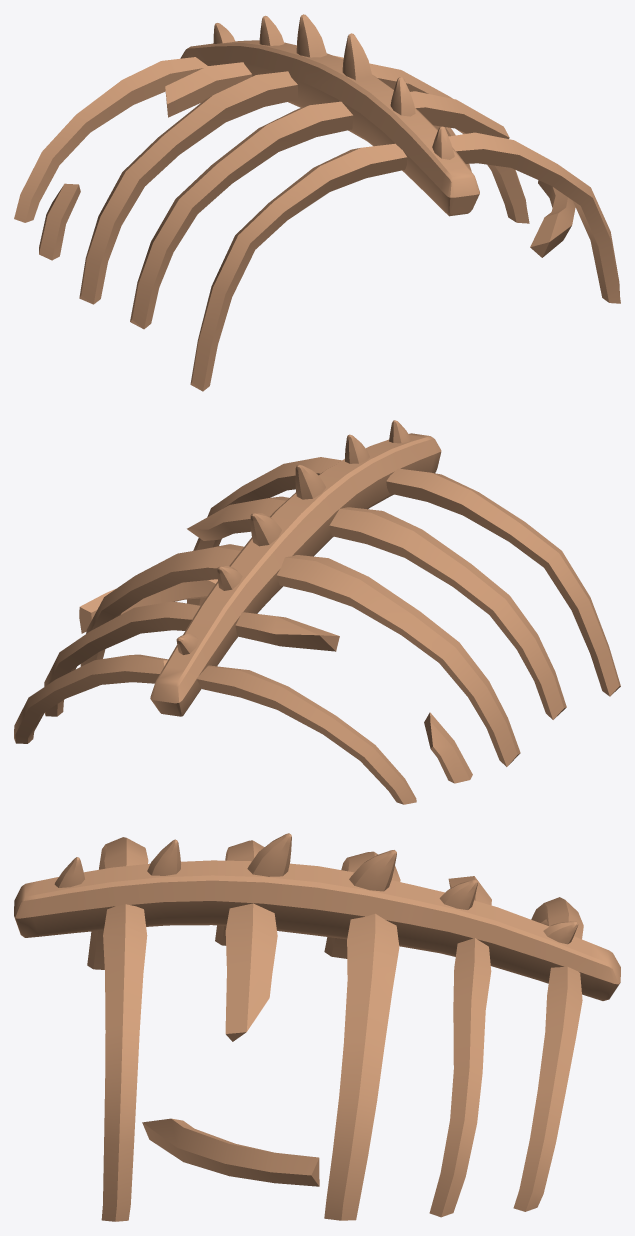
File: large_bone.glb
3 views of the same model, one above another, from view 1: azimuth 30°, elevation 25°; view 2: azimuth 150°, elevation 25°; view 3: azimuth 270°, elevation 25° (orthographic). The views are drawn at different scales.
Size of the model in its own units: 6.5 by 3.43 by 6.62.
1 material, 1 textured.
